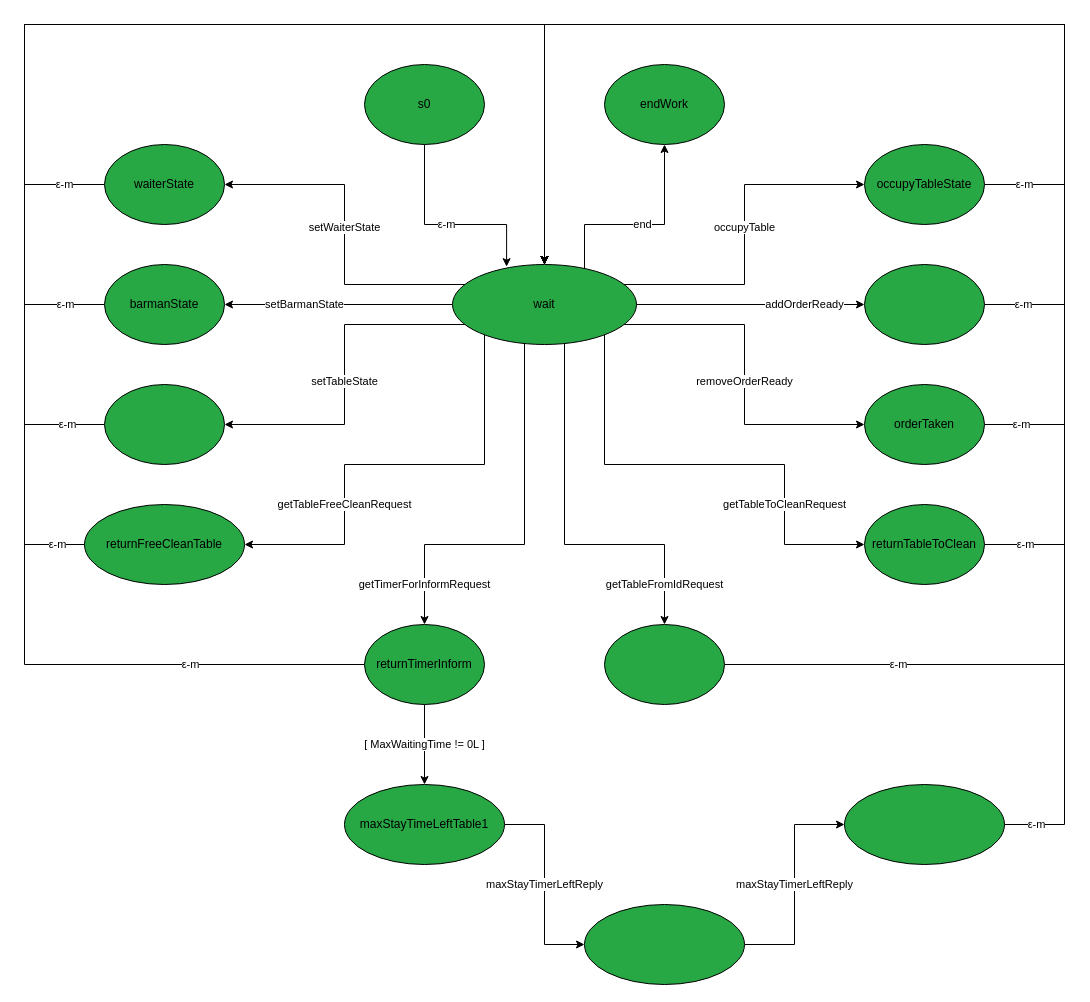
The diagram is 1090 pixels wide and 1002 high, and some of its shapes have lost their labels. The box of each missing label's shape, as (x1, y1, x2, y2) in pixels:
maxStayTimeLeftCompare: (844, 784, 1004, 864)
maxStayTimeLeftTable2: (584, 904, 744, 984)
orderReady: (864, 264, 984, 344)
returnTableFromId: (604, 624, 724, 704)
tableState: (104, 384, 224, 464)
